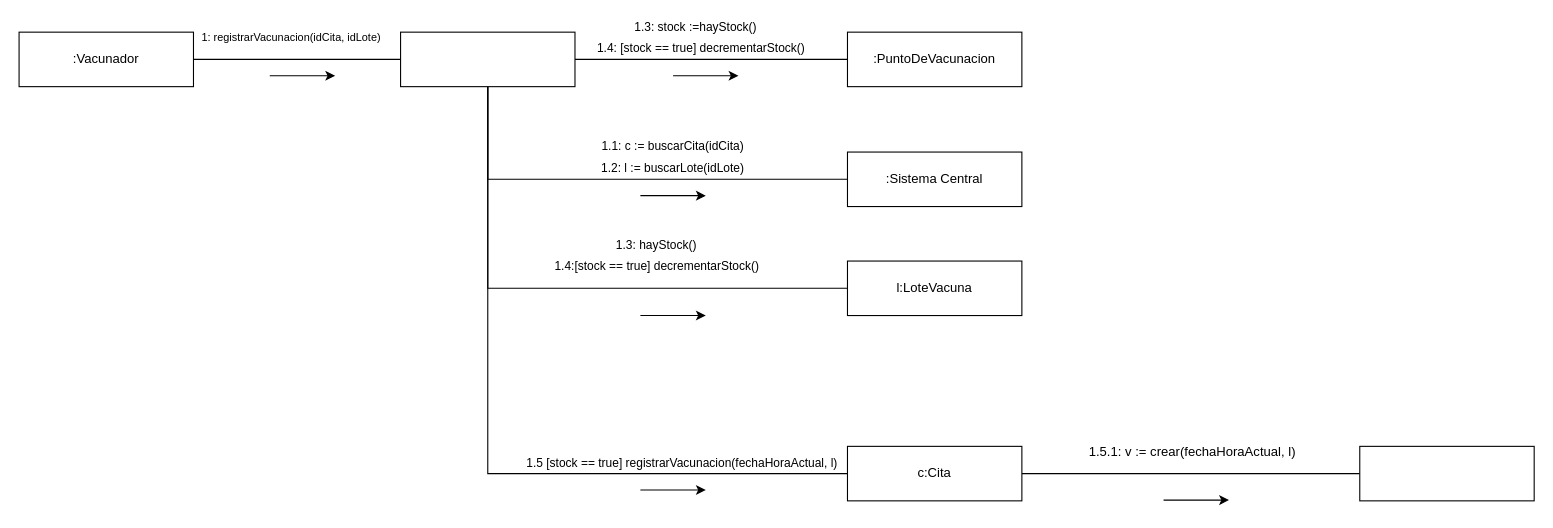
Some shapes in this 1553 by 528 pixel diagram are drawn without their labels. The centre of each missing label's shape, as x and y in pixels:
:ContraladorVacunación: the point at 487,59
:Vacunación: the point at 1446,473
